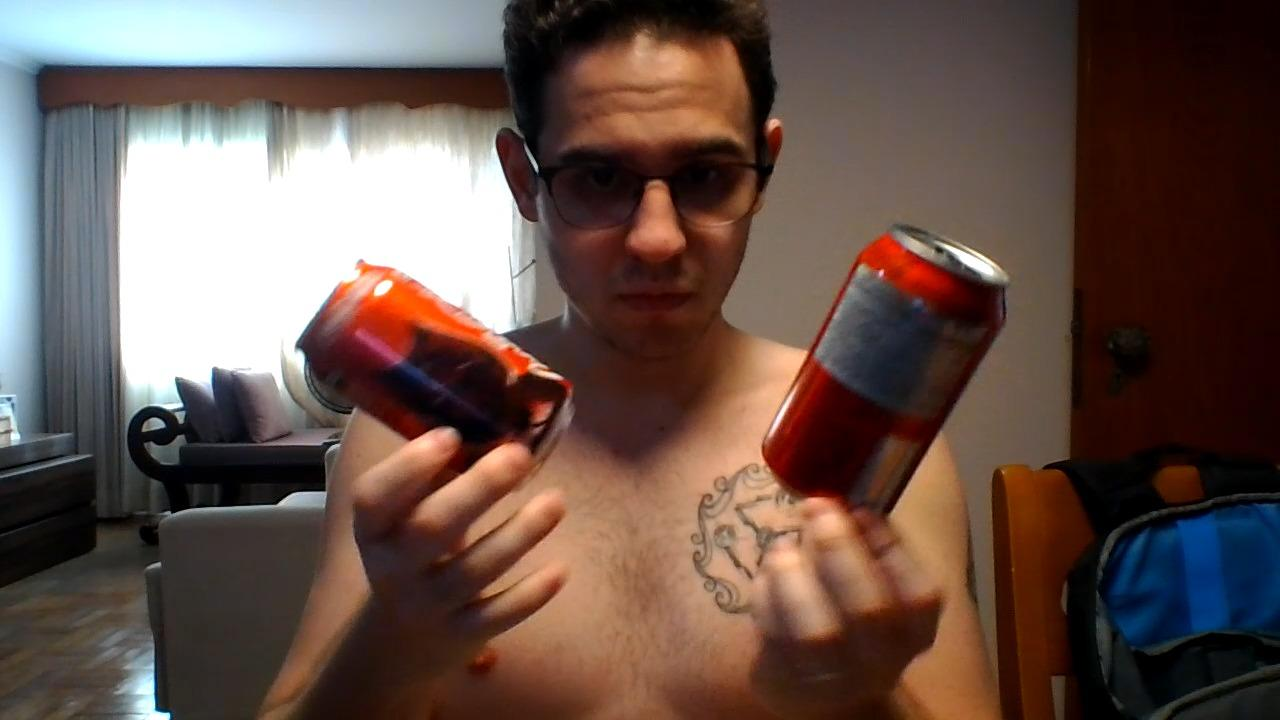coke: (759, 222, 1007, 522), (294, 261, 573, 479)
